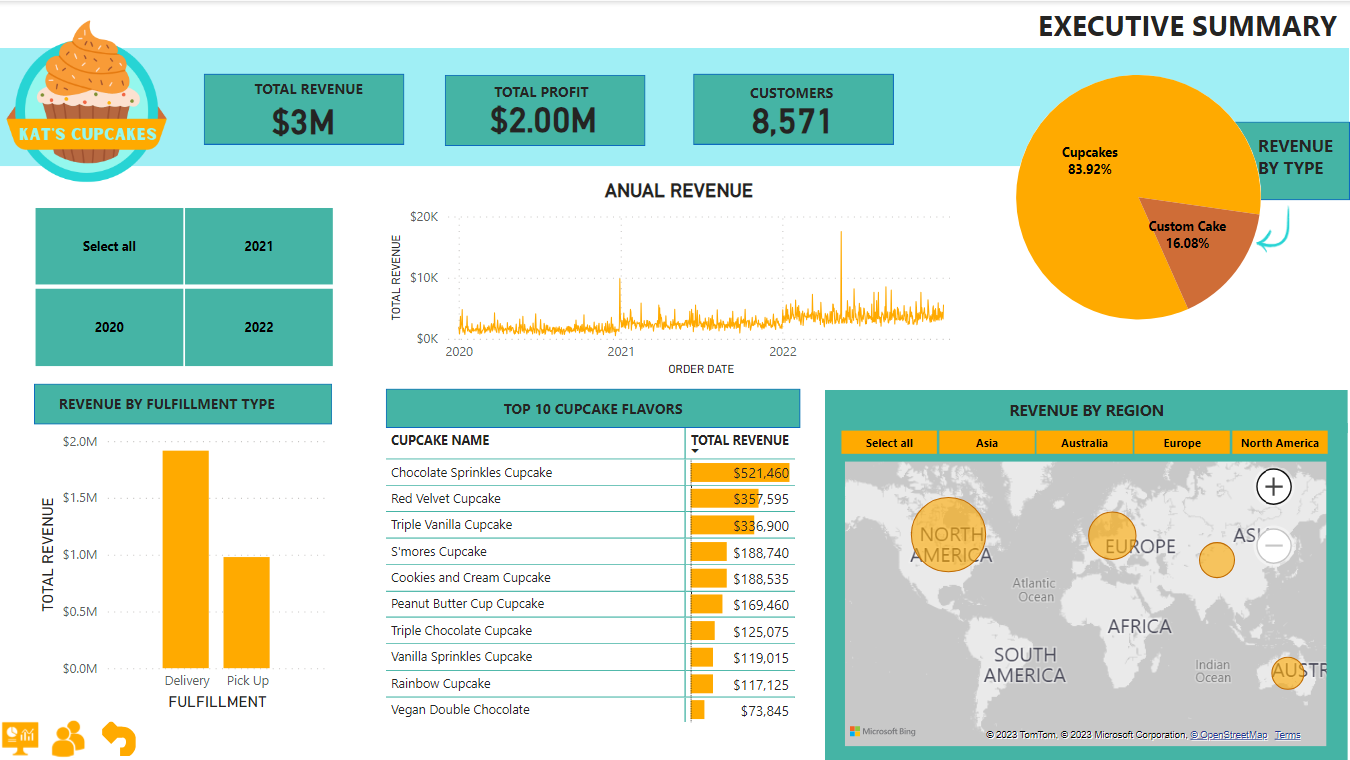

The page's visual inventory and layout, read from the dashboard file:
{"tool":"powerbi","page":{"name":"Executive Summary","canvas":[1280,720],"ordinal":0},"visuals":[{"type":"shape","title":"Banner","box":[0,43.8,1280,112.5],"z":0},{"type":"shape","title":"KPI Card 1","box":[195,68.4,190,67.5],"z":0,"group":"g2"},{"type":"shape","title":"KPI Card 3","box":[658.8,68.4,190,67.5],"z":0,"group":"g1"},{"type":"shape","title":"KPI Card 2","box":[423.8,70,190,67.5],"z":0,"group":"g3"},{"type":"card","title":"CUSTOMERS CARD","fields":{"Values":["Sales Data.CUSTOMER COUNT"]},"box":[675.4,85.3,156.2,50],"z":1000,"group":"g1"},{"type":"card","title":"TOTAL PROFIT CARD","fields":{"Values":["Sales Data.TOTAL PROFIT"]},"box":[445.4,86.2,142.5,48.8],"z":1000,"group":"g3"},{"type":"card","title":"TOTAL REVENUE CARD","fields":{"Values":["Sales Data.TOTAL REVENUE"]},"box":[211.2,87.5,156.2,50],"z":1000,"group":"g2"},{"type":"shape","title":"Map Shape","box":[783.8,398.8,495,321.2],"z":1000},{"type":"textbox","box":[980,0,300,98.8],"z":2000},{"type":"textbox","title":"TOTAL REVENUE TITLE","box":[237.5,68.7,121.2,31.2],"z":2000,"group":"g2"},{"type":"textbox","title":"TOTAL PROFIT TITLE","box":[466,71.2,121.2,31.2],"z":2000,"group":"g3"},{"type":"textbox","title":"CUSTOMERS TITLE","box":[707.6,72.5,121.2,31.2],"z":2000,"group":"g1"},{"type":"image","title":"Logo","box":[0,0,168.8,188.8],"z":3000},{"type":"group","id":"g1","title":"CUSTOMERS","box":[658.8,68.4,190,67.5],"z":4000},{"type":"group","id":"g2","title":"TOTAL REVENUE","box":[195,68.4,190,69.1],"z":5000},{"type":"group","id":"g3","title":"TOTAL PROFIT","box":[423.8,70,190,67.5],"z":6000},{"type":"lineChart","title":"ANUAL REVENUE","fields":{"Category":["Sales Data.ORDER DATE"],"Y":["Sales Data.TOTAL REVENUE"]},"box":[367.5,168.8,555,191.2],"z":7000},{"type":"columnChart","fields":{"Category":["Sales Data.FULFILLMENT"],"Y":["Sales Data.TOTAL REVENUE"]},"box":[35,401.2,282.5,275],"z":8000},{"type":"shape","title":"Fulfilment shape","box":[35,362.5,282.5,38.8],"z":9000},{"type":"textbox","title":"Fulfilment title","box":[53.8,366.2,228.8,32.5],"z":10000},{"type":"shape","title":"revenue by type shape","box":[1095.3,114.1,185.1,74.5],"z":11000},{"type":"textbox","title":"pie chart title","box":[1188.4,121.1,90.8,59.4],"z":13000},{"type":"shape","box":[963.8,69.8,232.8,232.8],"z":13500},{"type":"pieChart","title":"Pie chart","fields":{"Category":["Product Division Lookup.PRODUCT CATEGORY"],"Y":["Sales Data.TOTAL REVENUE"]},"box":[881.1,18.6,398.1,334.1],"z":13750},{"type":"image","title":"Arrow","box":[1174.5,188.6,69.8,55.9],"z":14000},{"type":"pivotTable","fields":{"Rows":["Cupcake Lookup.CUPCAKE NAME"],"Values":["Sales Data.TOTAL REVENUE"]},"box":[367.5,403.8,392.5,316.2],"z":15000},{"type":"shape","title":"Fulfilment shape","box":[367.5,366.2,392.5,37.5],"z":16000},{"type":"textbox","title":"Fulfilment title","box":[450,371.2,227.5,32.5],"z":17000},{"type":"slicer","fields":{"Values":["Sales Data.SALE YEAR"]},"box":[10,188.8,331.2,163.8],"z":18000},{"type":"shape","title":"Fulfilment shape","box":[783.8,367.5,495,41.2],"z":19000},{"type":"map","fields":{"Category":["Region Lookup.GEOGRAPHY HIERARCHY.CONTINENT NAME"],"Size":["Sales Data.TOTAL REVENUE"]},"box":[797.5,431.2,466.2,280],"z":20000},{"type":"textbox","title":"Fulfilment title","box":[917.5,372.5,227.5,32.5],"z":21000},{"type":"actionButton","box":[0,676.2,45,43.8],"z":22000},{"type":"actionButton","box":[45,676.2,50,43.8],"z":23000},{"type":"actionButton","box":[95,676.2,40,43.8],"z":24000},{"type":"slicer","fields":{"Values":["Region Lookup.GEOGRAPHY HIERARCHY.CONTINENT NAME"]},"box":[768.8,398.8,510,32.5],"z":25000}]}

Visuals, with their boxes in screenshot pixels (x1, y1, x2, y2), scaled from the page's 1280x720 canvas onto the 1350x760 screenshot:
"Banner" shape: 0/46/1349/165
"KPI Card 1" shape: 206/72/406/143
"KPI Card 3" shape: 695/72/895/143
"KPI Card 2" shape: 447/74/647/145
"CUSTOMERS CARD" card: 712/90/877/143
"TOTAL PROFIT CARD" card: 470/91/620/142
"TOTAL REVENUE CARD" card: 223/92/387/145
"Map Shape" shape: 827/421/1349/759
textbox: 1034/0/1349/104
"TOTAL REVENUE TITLE" textbox: 250/73/378/105
"TOTAL PROFIT TITLE" textbox: 491/75/619/108
"CUSTOMERS TITLE" textbox: 746/77/874/109
"Logo" image: 0/0/178/199
"CUSTOMERS" group: 695/72/895/143
"TOTAL REVENUE" group: 206/72/406/145
"TOTAL PROFIT" group: 447/74/647/145
"ANUAL REVENUE" lineChart: 388/178/973/380
columnChart - Sales Data.FULFILLMENT x Sales Data.TOTAL REVENUE: 37/423/335/714
"Fulfilment shape" shape: 37/383/335/424
"Fulfilment title" textbox: 57/387/298/421
"revenue by type shape" shape: 1155/120/1349/199
"pie chart title" textbox: 1253/128/1349/191
shape: 1017/74/1262/319
"Pie chart" pieChart: 929/20/1349/372
"Arrow" image: 1239/199/1312/258
pivotTable - Cupcake Lookup.CUPCAKE NAME x Sales Data.TOTAL REVENUE: 388/426/802/759
"Fulfilment shape" shape: 388/387/802/426
"Fulfilment title" textbox: 475/392/715/426
slicer - Sales Data.SALE YEAR: 11/199/360/372
"Fulfilment shape" shape: 827/388/1349/431
map - Region Lookup.GEOGRAPHY HIERARCHY.CONTINENT NAME x Sales Data.TOTAL REVENUE: 841/455/1333/751
"Fulfilment title" textbox: 968/393/1208/428
actionButton: 0/714/47/759
actionButton: 47/714/100/759
actionButton: 100/714/142/759
slicer - Region Lookup.GEOGRAPHY HIERARCHY.CONTINENT NAME: 811/421/1349/455
